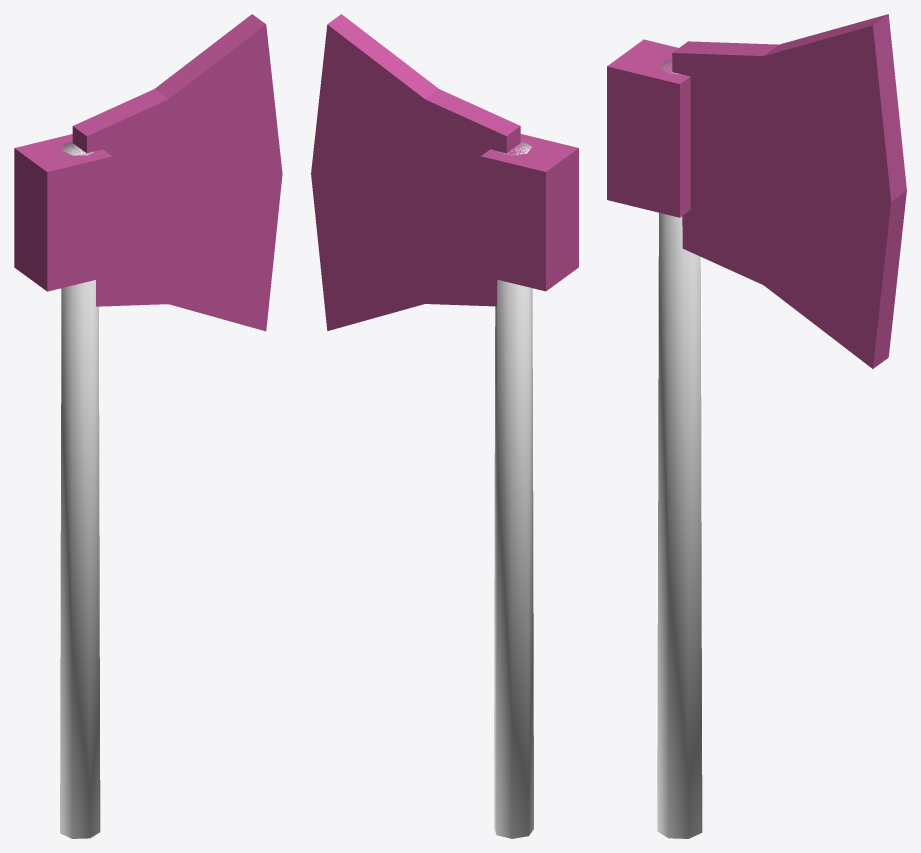
Rendered from orichalcum_axe.glb.
The picture shows the model from 3 angles, left to right: view 1: azimuth 30°, elevation 25°; view 2: azimuth 150°, elevation 25°; view 3: azimuth 330°, elevation 25°; orthographic projection. The views are drawn at different scales.
Parts seen in each view (by area): view 1: orichalcum_axe_v0; view 2: orichalcum_axe_v0; view 3: orichalcum_axe_v0.
Boxes of the visible parts, left/top/right/bottom form: orichalcum_axe_v0: left=14, top=14, right=282, bottom=838; orichalcum_axe_v0: left=311, top=14, right=578, bottom=838; orichalcum_axe_v0: left=607, top=14, right=906, bottom=838.
Size of the model in its own units: 0.3 by 0.9 by 0.07.
